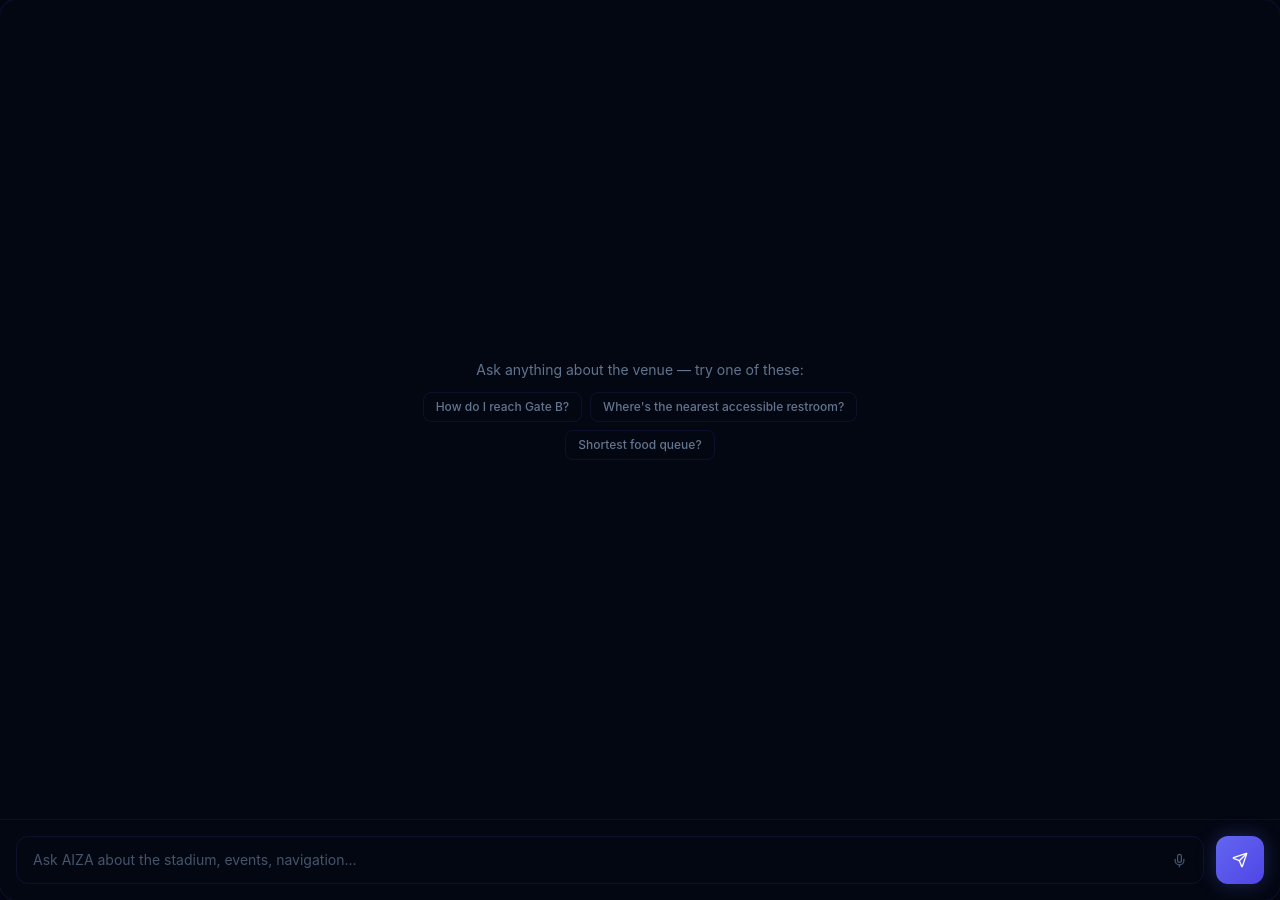
Test: ChatWindow › lets a user type and submit a question via the form
In the field named "ask the stadium assistant": {"x": 598, "y": 860} 33,838 -> 1164,882, type "Where is my seat?"
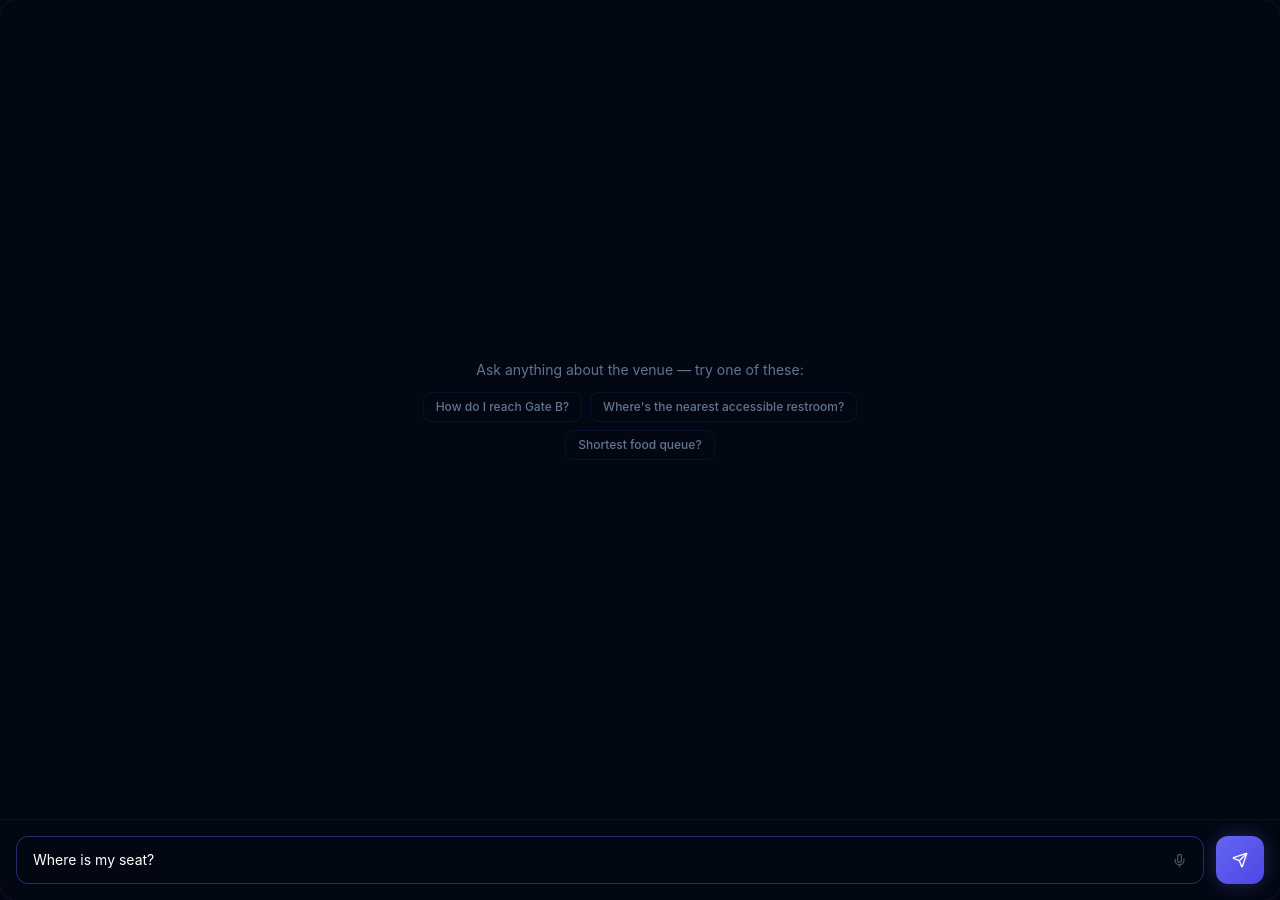
Click the button named "send message": {"x": 1240, "y": 860} 1216,836 -> 1264,884
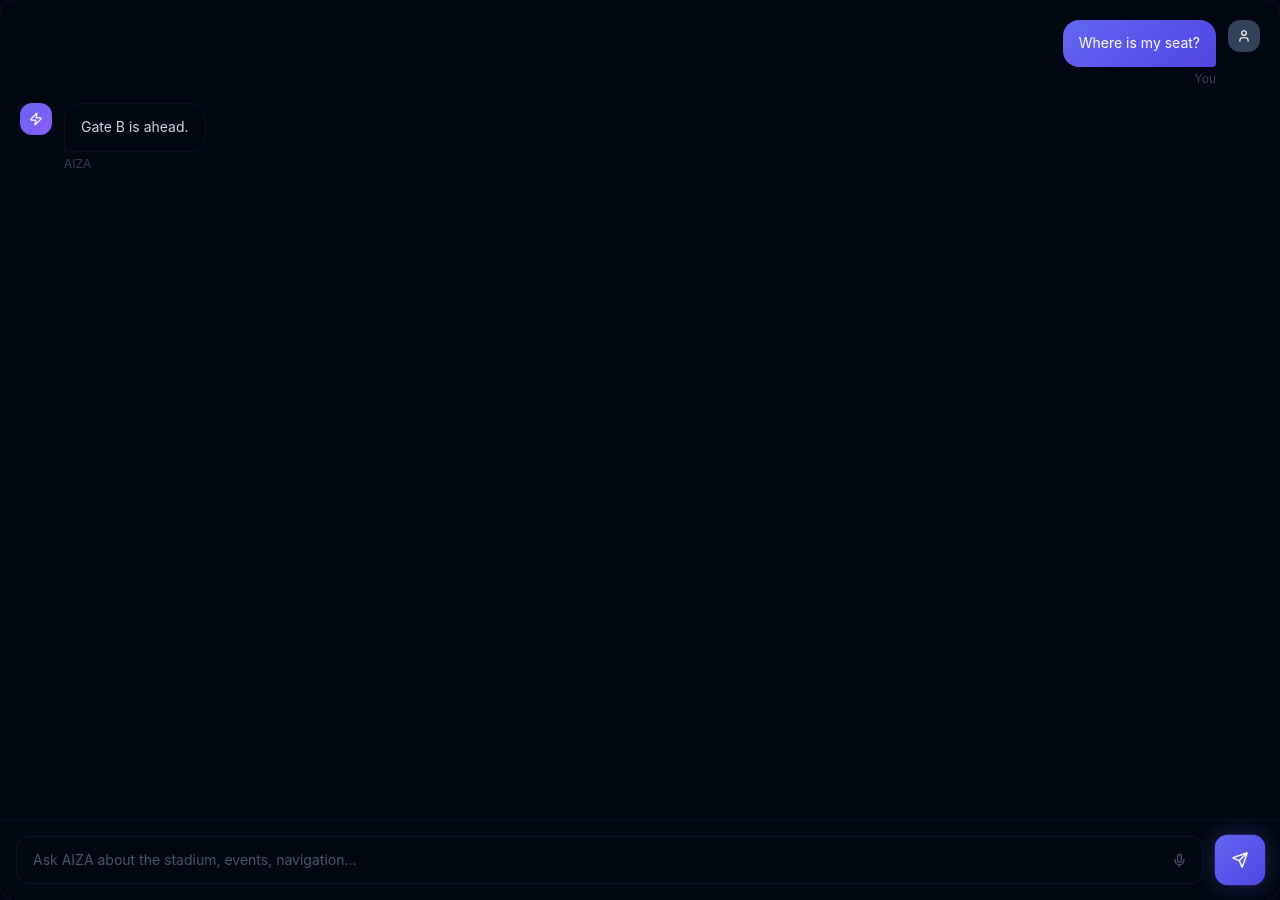
Expected: the text "Where is my seat?" is shown, 1063,20 -> 1216,67
Expected: the text "Gate B is ahead." is shown, 64,103 -> 206,152
